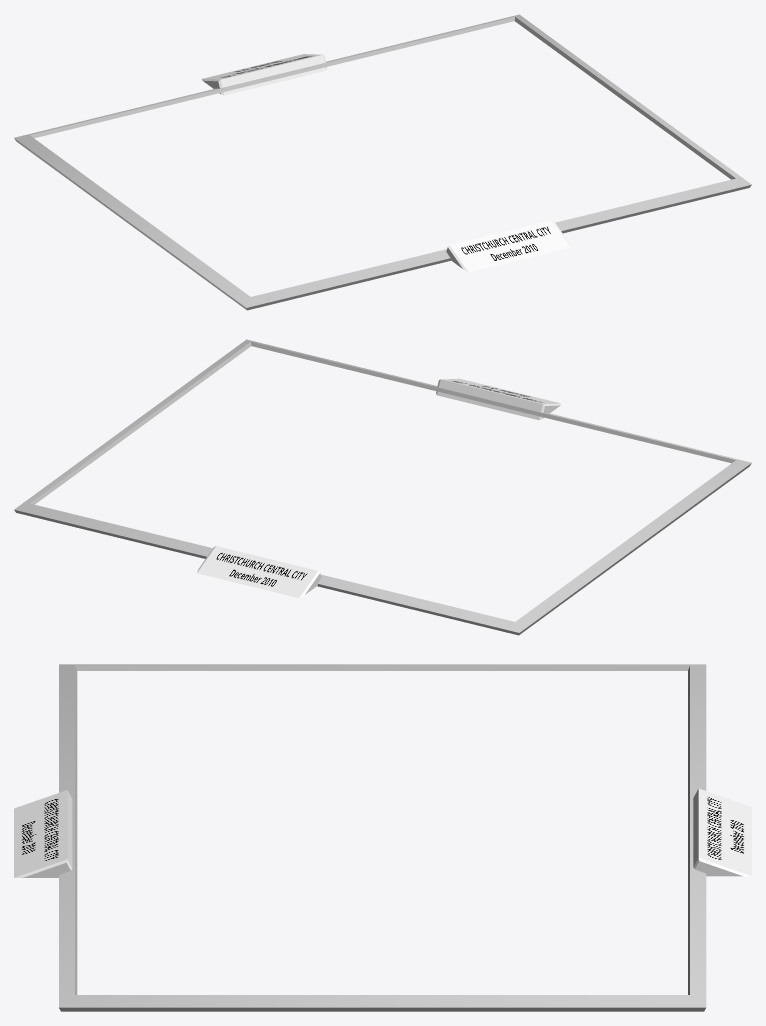
The model's file is Frame.FBX.
The picture shows the model from 3 angles, top to bottom: view 1: azimuth 30°, elevation 25°; view 2: azimuth 150°, elevation 25°; view 3: azimuth 270°, elevation 25°; orthographic projection. The views are drawn at different scales.
Visible parts, largest first — view 1: Frame; view 2: Frame; view 3: Frame.
Part boxes in pixels (x1,y1,x2,y2): Frame: (14, 14, 751, 310); Frame: (14, 339, 751, 635); Frame: (14, 664, 751, 1011).
Bounding box in the file's own units: 4.95 × 0.1291 × 4.49.
Materials: 2 (1 with a texture image).
